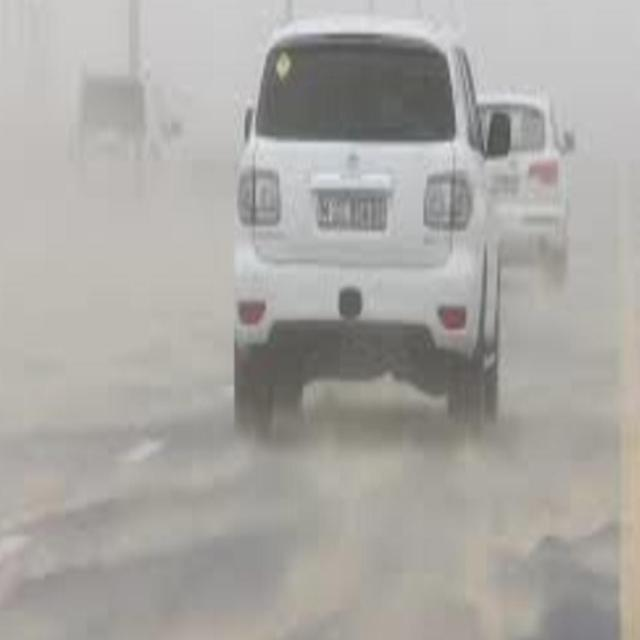car: (236, 15, 498, 439), (478, 89, 574, 268)
